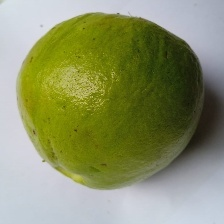guava: (14, 11, 216, 169)
